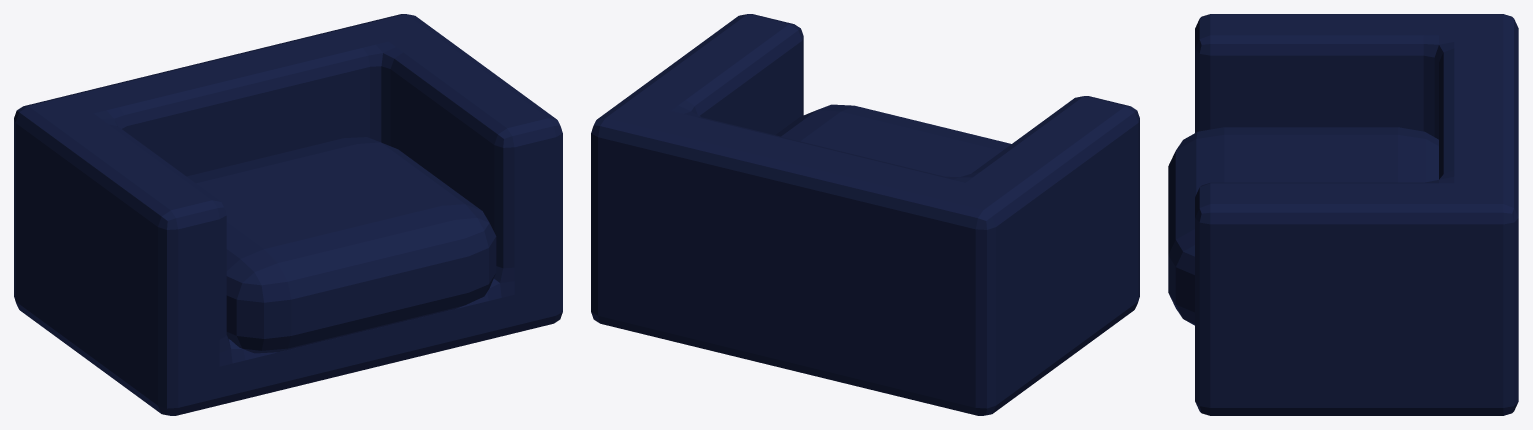
File: hh_armchair.glb
3 views of the same model, side by side, from view 1: azimuth 30°, elevation 25°; view 2: azimuth 150°, elevation 25°; view 3: azimuth 270°, elevation 25° (orthographic). The views are drawn at different scales.
Visible parts, largest first — view 1: Sofa_C; view 2: Sofa_C; view 3: Sofa_C.
Part boxes in pixels (x1=…): Sofa_C: x1=14, y1=14, x2=562, y2=415; Sofa_C: x1=591, y1=14, x2=1139, y2=415; Sofa_C: x1=1168, y1=14, x2=1518, y2=415.
Bounding box in the file's own units: 1.11 × 0.5426 × 0.8148.
